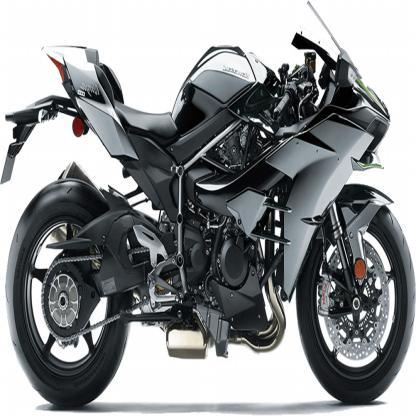Motorcycle: (1, 23, 415, 406)
